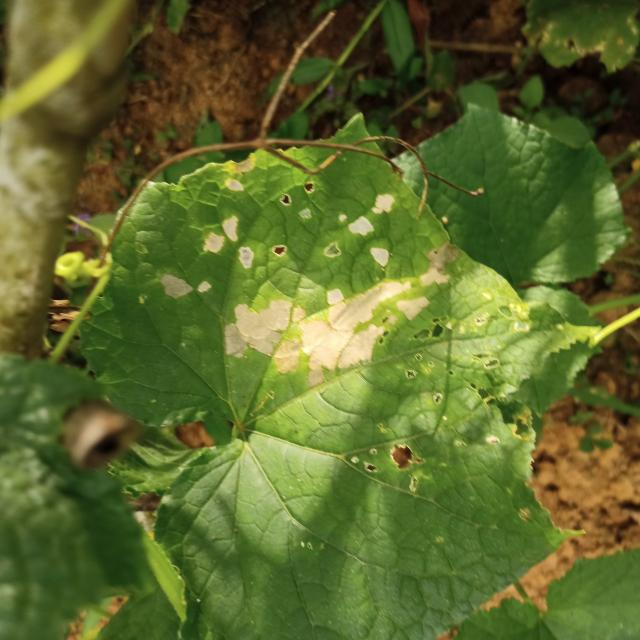disease_cucumber: (160, 158, 463, 389)
